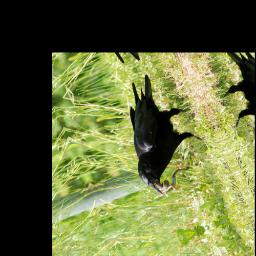Crow: (101, 67, 219, 201)
